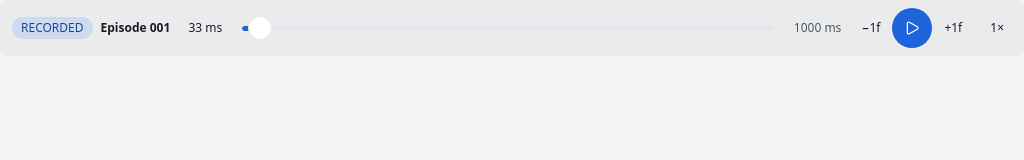
PlaybackBar › 공통 surface와 토큰 기반 조작 영역으로 재생 상태를 제어한다
Expected: the slider named "Episode 재생 컨트롤 위치" holds "33", left=230, top=8, right=786, bottom=48
Click the button named "재생": (912, 28) left=892, top=8, right=932, bottom=48
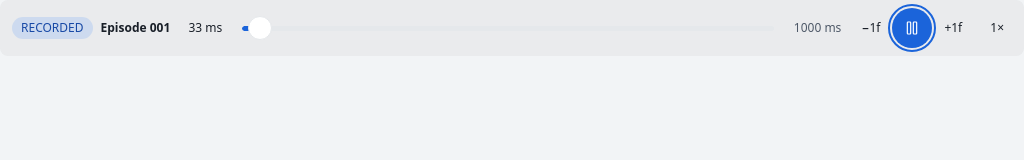
Now the button named "일시정지" is pressed, box left=892, top=8, right=932, bottom=48
Click the button named "다음 프레임": (953, 28) left=936, top=8, right=970, bottom=48
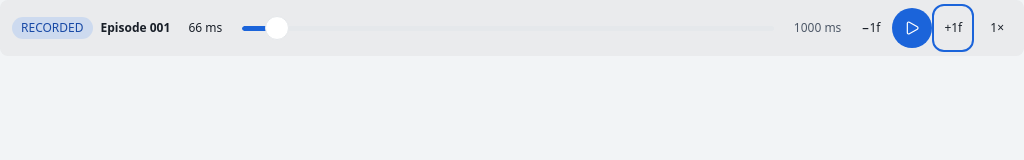
Now the slider holds "66", box left=230, top=8, right=786, bottom=48
Click the button named "재생 속도 1배": (997, 28) left=982, top=8, right=1012, bottom=48
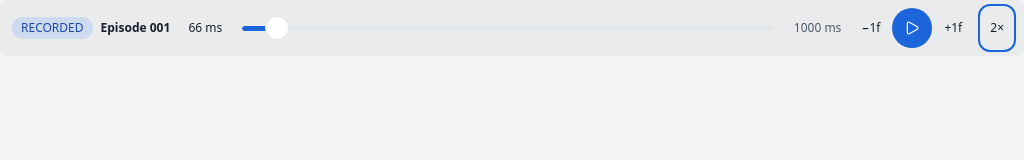
Now the button named "재생 속도 2배" is shown, box left=982, top=8, right=1012, bottom=48
